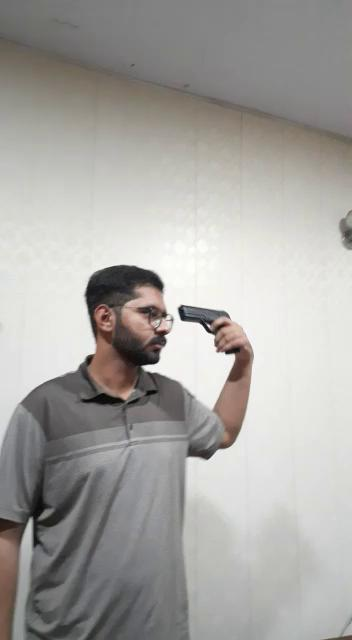criminal: (0, 260, 258, 640)
weapon: (174, 297, 236, 351)
